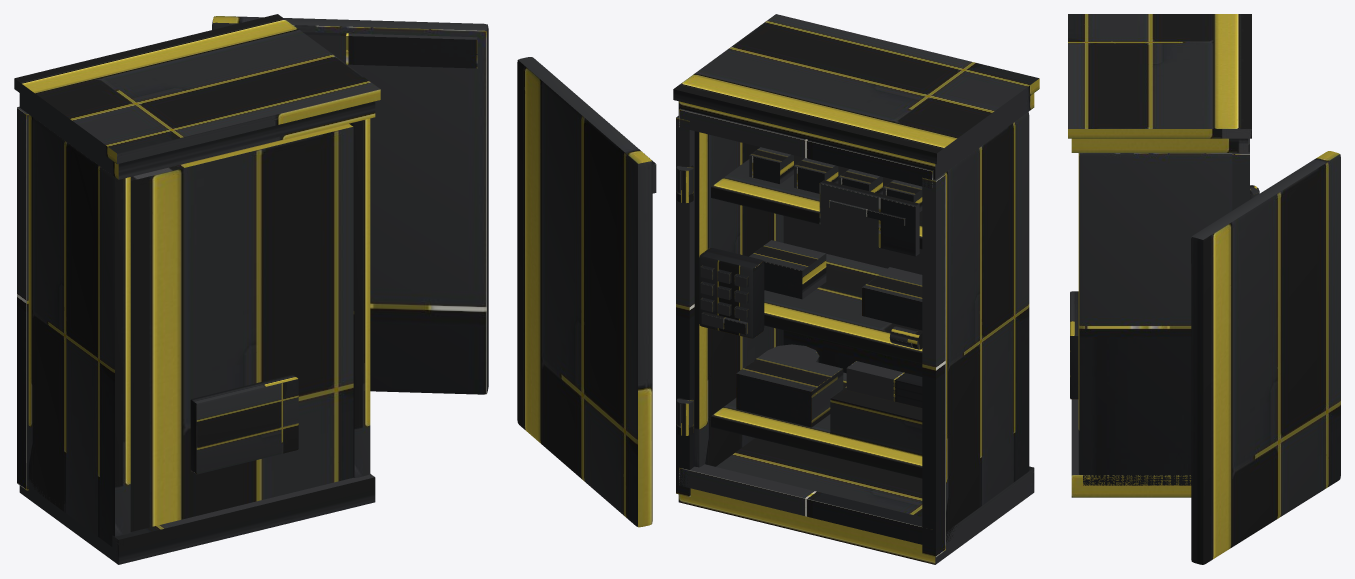
File: DD_cupboard.glb
3 views of the same model, side by side, from view 1: azimuth 30°, elevation 25°; view 2: azimuth 150°, elevation 25°; view 3: azimuth 270°, elevation 25° (orthographic). The views are drawn at different scales.
Visible parts, largest first — view 1: DD_cupboard; view 2: DD_cupboard; view 3: DD_cupboard.
Part boxes in pixels (x1,y1,x2,y2): DD_cupboard: (14, 14, 488, 564); DD_cupboard: (517, 14, 1039, 564); DD_cupboard: (1068, 14, 1340, 564).
Size of the model in its own units: 1.31 by 1.15 by 0.7716.
1 material, 1 textured.
